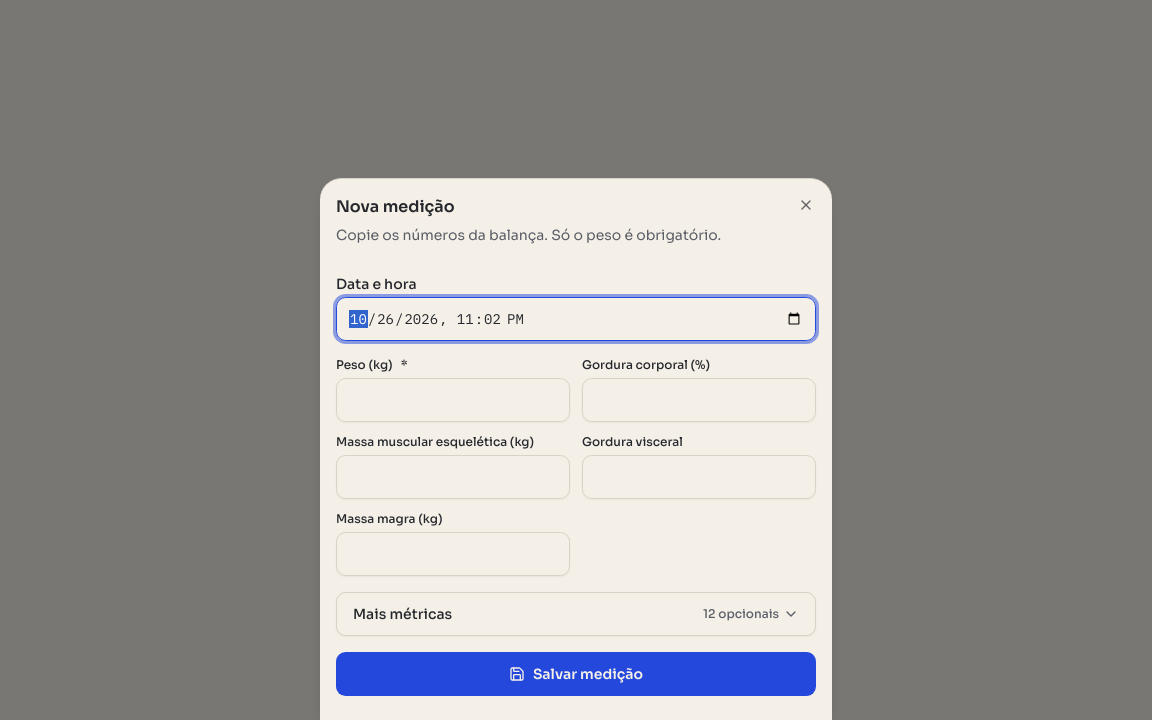
Test: MeasurementSheet › mostra só as principais; Mais métricas expande as outras 12
Expected: the field labelled "Gordura corporal (%)" is shown, [582, 378, 816, 422]
Expected: the field labelled "Metabolismo basal (kcal)" is not shown
Click the button "Mais métricas 12 opcionais".
click(403, 614)  # box [336, 592, 816, 636]
(page scrolled)
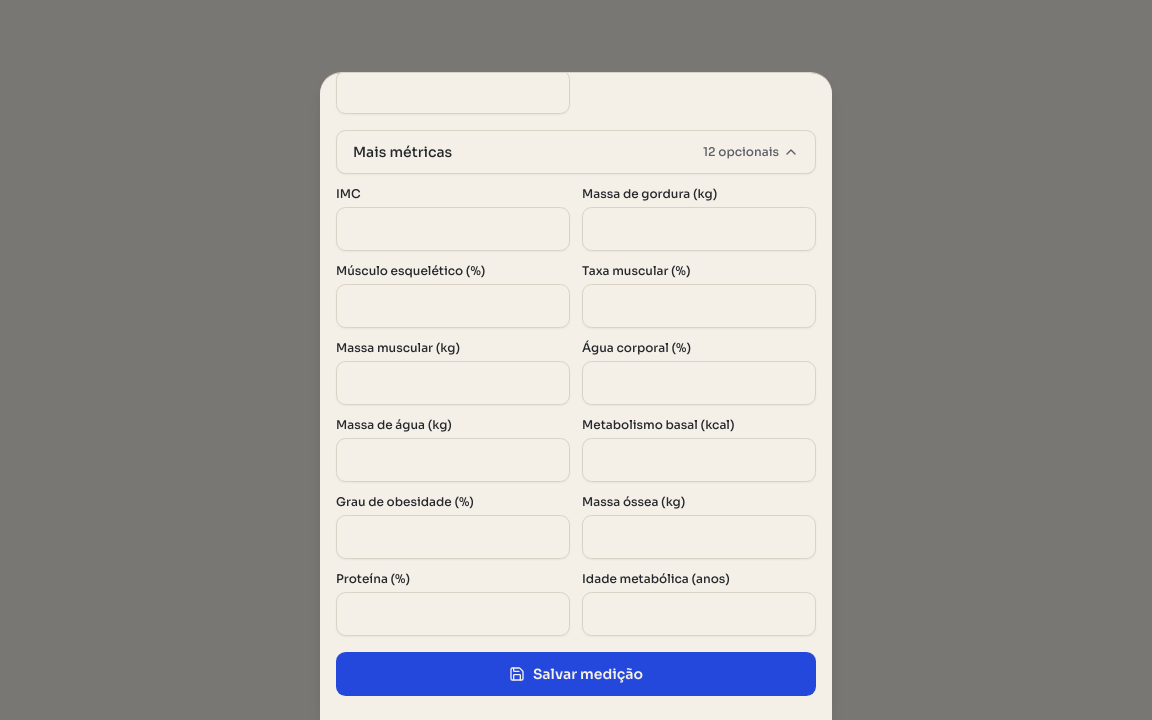
Now the field labelled "Metabolismo basal (kcal)" is shown, box [582, 438, 816, 482]
